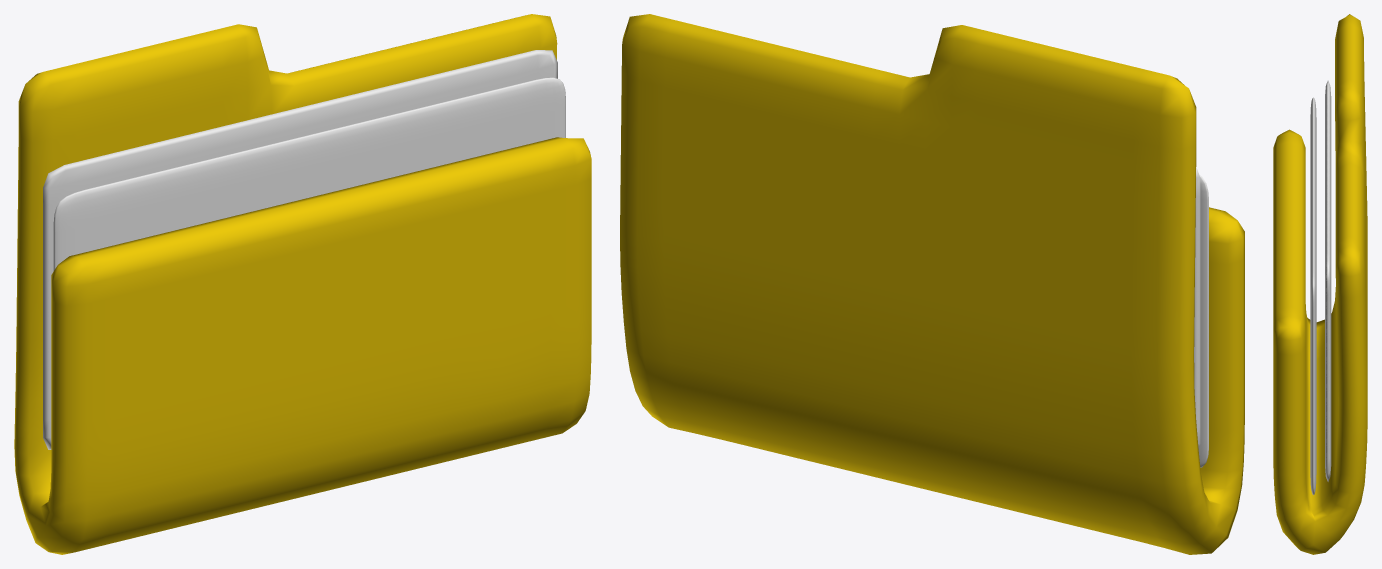
Rendered from FOLDER.fbx.
The picture shows the model from 3 angles, left to right: view 1: azimuth 30°, elevation 25°; view 2: azimuth 150°, elevation 25°; view 3: azimuth 270°, elevation 25°; orthographic projection. The views are drawn at different scales.
Visible parts, largest first — view 1: pCube1, paper, paper2; view 2: pCube1, paper, paper2; view 3: pCube1, paper2, paper.
Boxes of the visible parts, x1,y1,x2,y2 form: pCube1: [14, 14, 591, 554]; paper: [53, 77, 565, 270]; paper2: [43, 50, 557, 449]; pCube1: [620, 14, 1244, 554]; paper: [1198, 175, 1208, 467]; paper2: [1194, 167, 1200, 447]; pCube1: [1273, 14, 1367, 554]; paper2: [1325, 80, 1331, 481]; paper: [1310, 97, 1316, 494].
Bounding box in the file's own units: 5.17 × 4.23 × 1.01.
